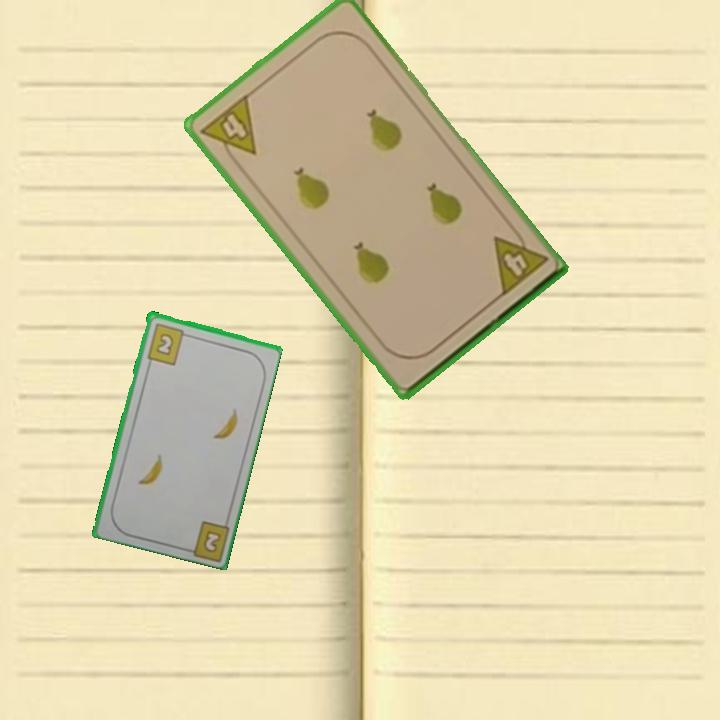2b: (143, 319, 192, 367), (200, 526, 224, 555)
4p: (197, 90, 259, 171), (489, 221, 551, 299)
